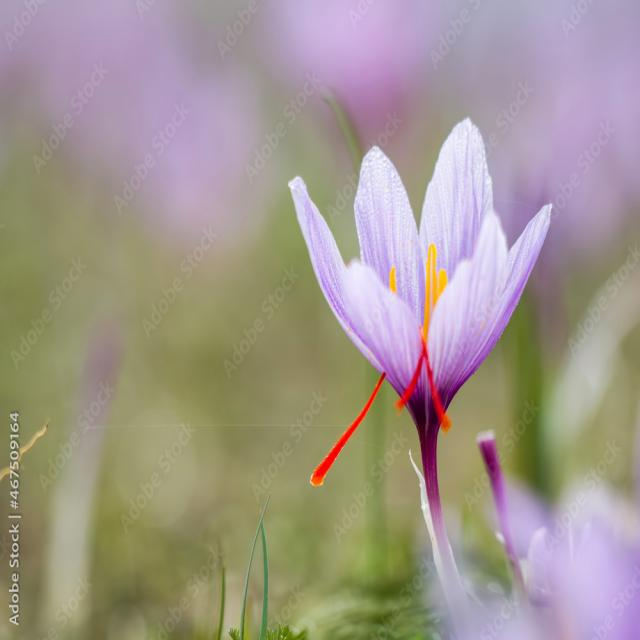saffron open: (289, 118, 551, 622)
